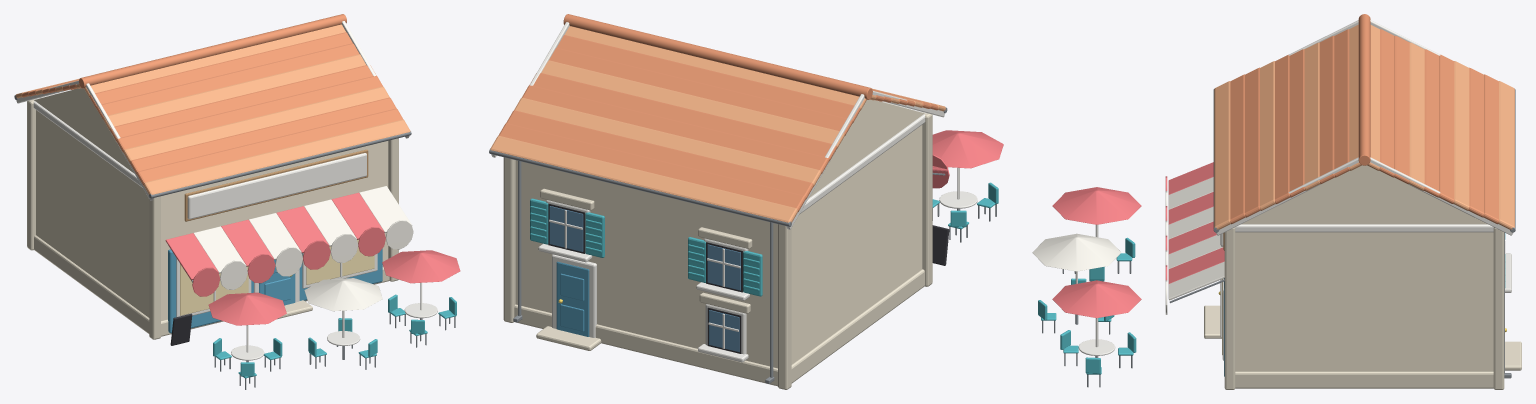
File: cafe.fbx
The picture shows the model from 3 angles, left to right: view 1: azimuth 30°, elevation 25°; view 2: azimuth 150°, elevation 25°; view 3: azimuth 270°, elevation 25°; orthographic projection. The views are drawn at different scales.
Visible parts, largest first — view 1: Visual; view 2: Visual; view 3: Visual.
Part boxes in pixels (x1,y1,x2,y2): Visual: [14, 14, 460, 389]; Visual: [489, 14, 1003, 389]; Visual: [1032, 14, 1521, 389].
Size of what is drawn, in the model's own units: 1000 by 796 by 1464.
